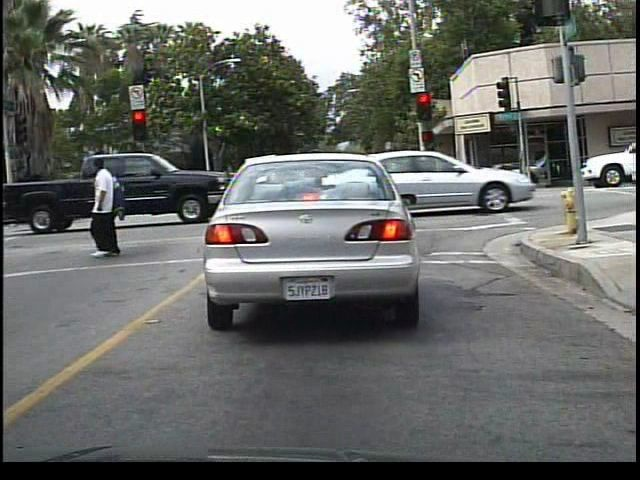person: (84, 155, 136, 256)
